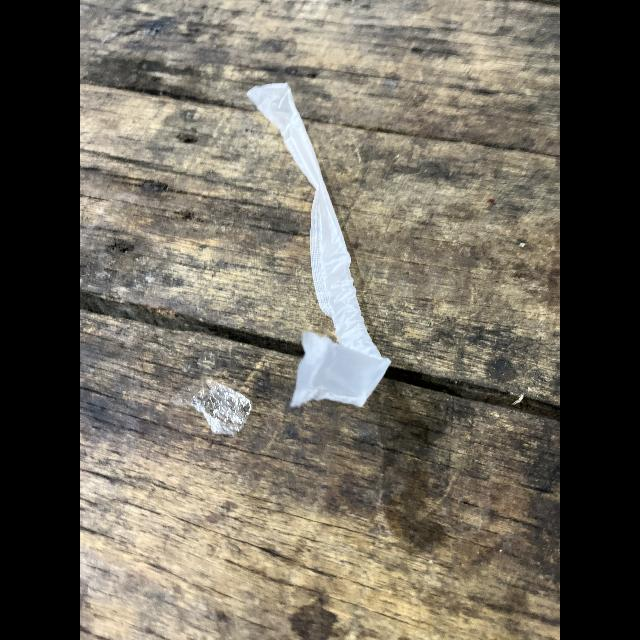scrap_plastic: (239, 77, 415, 416), (195, 379, 258, 436)
